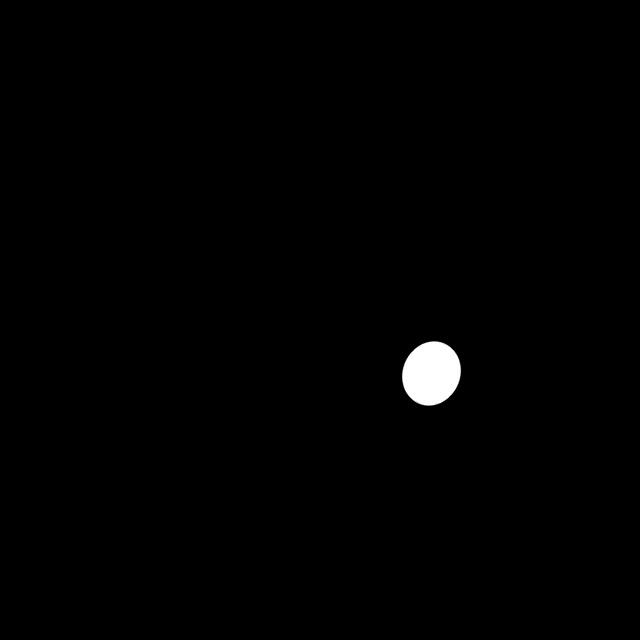Circle: (394, 331, 469, 415)
